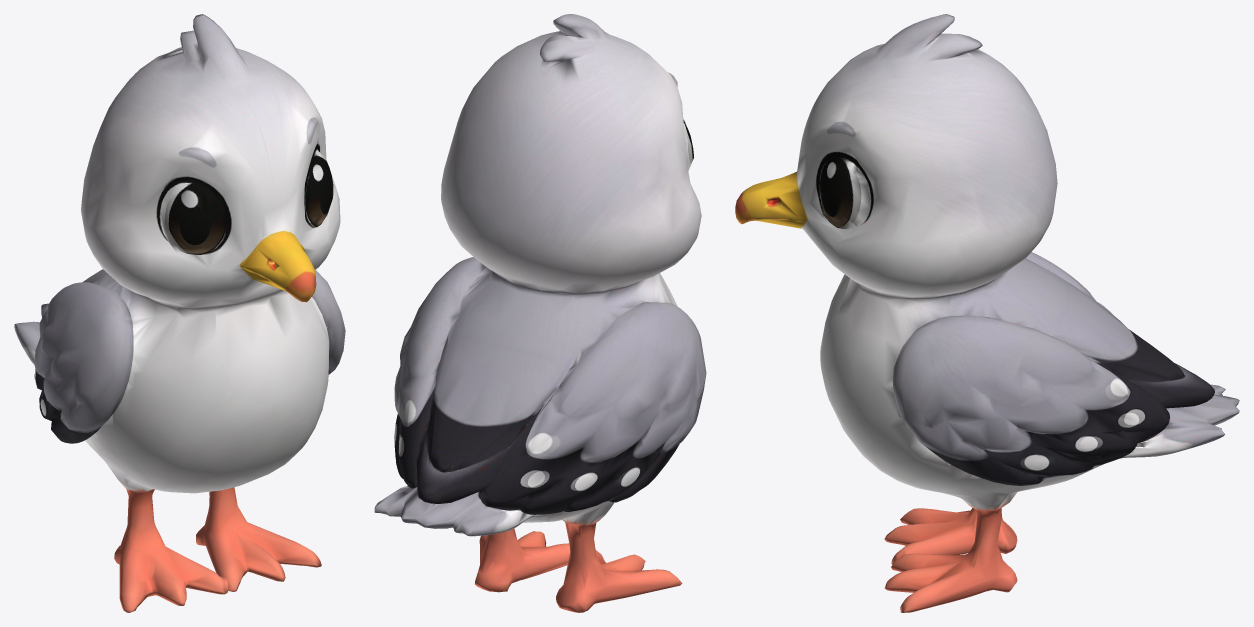
Rendered from gull.glb.
3 renders of one model, left to right at view 1: azimuth 30°, elevation 25°; view 2: azimuth 150°, elevation 25°; view 3: azimuth 270°, elevation 25°, orthographic.
Visible parts, largest first — view 1: pet; view 2: pet; view 3: pet.
Boxes of the visible parts, <box> form: pet: <box>14,14,345,612</box>; pet: <box>374,14,706,612</box>; pet: <box>735,14,1239,612</box>.
Size of the model in its own units: 0.4975 by 1 by 0.8287.
1 material, 1 textured.
